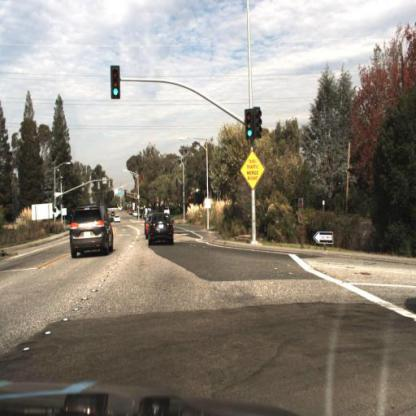car: (69, 200, 118, 262), (146, 209, 176, 249), (114, 215, 121, 224)
trafficLight-Green: (109, 64, 121, 100), (245, 107, 255, 143)
